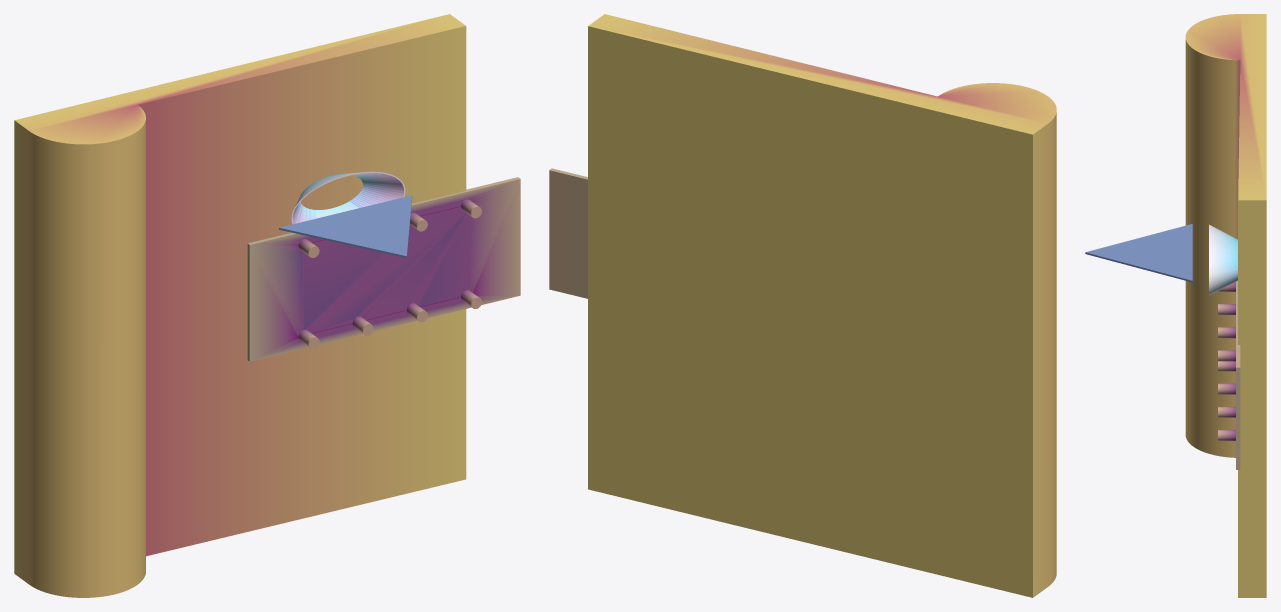
3 views of the same model, side by side, from view 1: azimuth 30°, elevation 25°; view 2: azimuth 150°, elevation 25°; view 3: azimuth 270°, elevation 25° (orthographic). The views are drawn at different scales.
Parts seen in each view (by area): view 1: panel_skin, plate, shelf, dish; view 2: panel_skin, plate; view 3: panel_skin, shelf, plate, dish.
Part boxes in pixels (x1,y1,x2,y2): panel_skin: [14, 14, 466, 597]; plate: [247, 177, 520, 361]; shelf: [279, 195, 412, 257]; dish: [291, 171, 405, 224]; panel_skin: [588, 14, 1056, 597]; plate: [549, 168, 587, 298]; panel_skin: [1185, 14, 1266, 597]; shelf: [1085, 224, 1192, 282]; plate: [1218, 281, 1240, 469]; dish: [1209, 224, 1237, 295].
Bounding box in the file's own units: 6 × 5.32 × 2.2.
